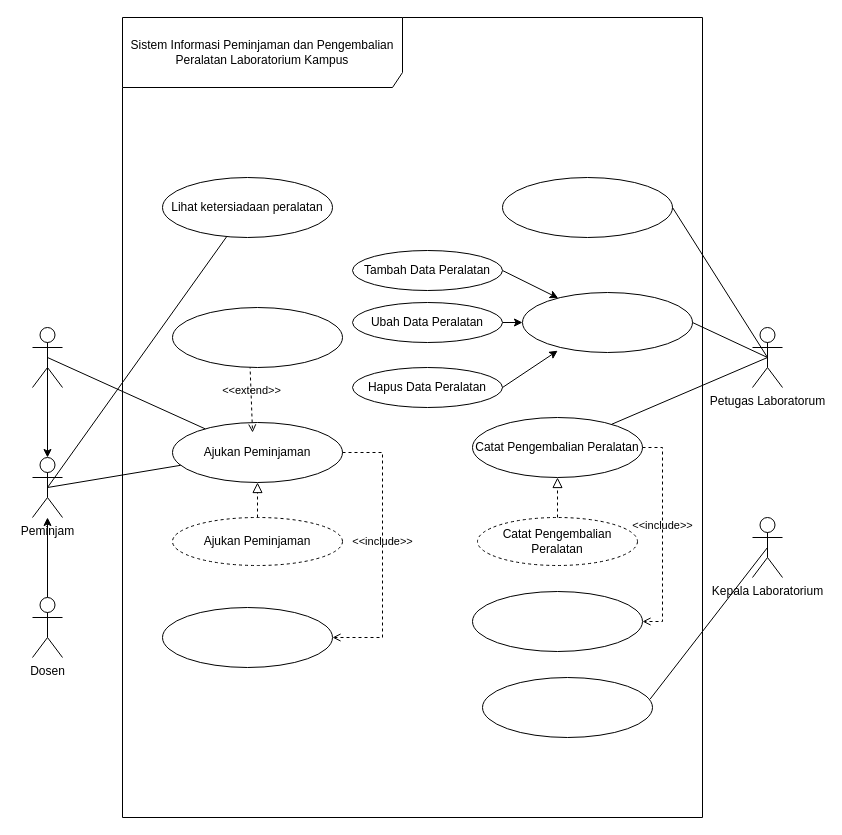
Some shapes in this 842 by 835 pixel diagram are drawn without their labels. The box of each missing label's shape, as (x1, y1, x2, y2) in pixels:
Cetak Bukti Pengajuan: (172, 306, 342, 368)
Kelola Data Peralatan: (522, 292, 692, 352)
Lihat Laporan Peminjaman: (482, 676, 652, 738)
Mahasiswa: (32, 326, 62, 388)
Periksa Ketersiadaan: (162, 606, 332, 668)
Periksa Kondisi Peralatan: (472, 590, 642, 652)
Proses Keputusan Peminjaman: (502, 176, 672, 238)
